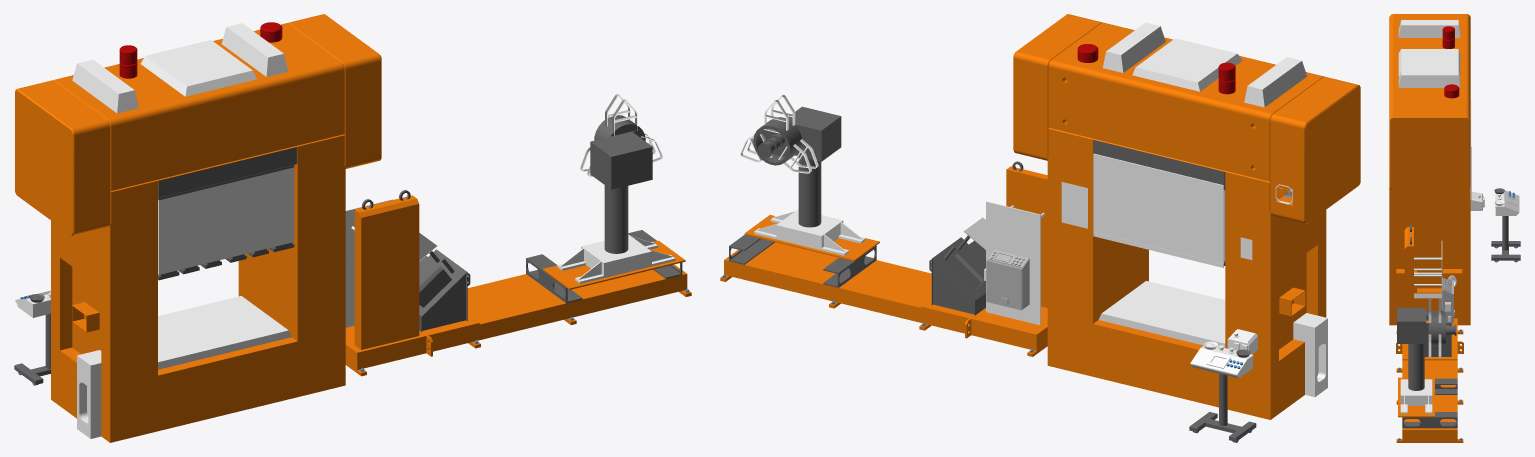
The model's file is jichuang_all.dae.
The picture shows the model from 3 angles, left to right: view 1: azimuth 30°, elevation 25°; view 2: azimuth 150°, elevation 25°; view 3: azimuth 270°, elevation 25°; orthographic projection. The views are drawn at different scales.
Visible parts, largest first — view 1: Obj3d66_447912_3_447, Obj3d66_447912_72_433, Obj3d66_447912_43_788, Obj3d66_447912_17_524, Obj3d66_447912_10_379, Obj3d66_447912_71_568, Obj3d66_447912_53_966, Obj3d66_447912_44_69, Obj3d66_447912_55_737, Obj3d66_447912_5_207, Obj3d66_447912_8_978, Obj3d66_447912_9_440 (+6 smaller); view 2: Obj3d66_447912_3_447, Obj3d66_447912_72_433, Obj3d66_447912_24_21, Obj3d66_447912_17_524, Obj3d66_447912_68_219, Obj3d66_447912_71_568, Obj3d66_447912_10_379, Obj3d66_447912_55_737, Obj3d66_447912_61_484, Obj3d66_447912_5_207, Obj3d66_447912_53_966, Obj3d66_447912_44_69 (+12 smaller); view 3: Obj3d66_447912_3_447, Obj3d66_447912_72_433, Obj3d66_447912_10_379, Obj3d66_447912_53_966, Obj3d66_447912_9_440, Obj3d66_447912_8_978, Obj3d66_447912_55_737, Obj3d66_447912_54_305, Obj3d66_447912_57_925, Obj3d66_447912_83_841, Obj3d66_447912_46_305, Obj3d66_447912_56_21 (+8 smaller).
Part boxes in pixels (box(x1,y1,x2,y2)): Obj3d66_447912_3_447: box(15, 14, 381, 442); Obj3d66_447912_72_433: box(345, 195, 691, 376); Obj3d66_447912_43_788: box(158, 167, 294, 274); Obj3d66_447912_17_524: box(158, 296, 291, 369); Obj3d66_447912_10_379: box(140, 40, 256, 96); Obj3d66_447912_71_568: box(419, 249, 470, 331); Obj3d66_447912_53_966: box(590, 131, 652, 189); Obj3d66_447912_44_69: box(158, 147, 297, 200); Obj3d66_447912_55_737: box(557, 234, 675, 283); Obj3d66_447912_5_207: box(77, 350, 101, 438); Obj3d66_447912_8_978: box(72, 59, 138, 113); Obj3d66_447912_9_440: box(221, 23, 287, 76); Obj3d66_447912_3_447: box(1013, 14, 1360, 419); Obj3d66_447912_72_433: box(720, 166, 1047, 356); Obj3d66_447912_24_21: box(1093, 158, 1223, 263); Obj3d66_447912_17_524: box(1098, 281, 1225, 347); Obj3d66_447912_68_219: box(986, 201, 1040, 325); Obj3d66_447912_71_568: box(929, 235, 985, 315); Obj3d66_447912_10_379: box(1132, 38, 1242, 91); Obj3d66_447912_55_737: box(754, 209, 865, 255); Obj3d66_447912_61_484: box(986, 250, 1029, 310); Obj3d66_447912_5_207: box(1293, 313, 1327, 397); Obj3d66_447912_53_966: box(788, 106, 841, 161); Obj3d66_447912_44_69: box(1093, 140, 1225, 190); Obj3d66_447912_3_447: box(1389, 14, 1470, 325); Obj3d66_447912_72_433: box(1396, 227, 1463, 442); Obj3d66_447912_10_379: box(1398, 49, 1460, 76); Obj3d66_447912_53_966: box(1397, 307, 1425, 343); Obj3d66_447912_9_440: box(1398, 70, 1460, 87); Obj3d66_447912_8_978: box(1398, 20, 1460, 37); Obj3d66_447912_55_737: box(1400, 379, 1432, 413); Obj3d66_447912_54_305: box(1408, 344, 1424, 390); Obj3d66_447912_57_925: box(1402, 412, 1457, 428); Obj3d66_447912_83_841: box(1491, 216, 1520, 260); Obj3d66_447912_46_305: box(1428, 314, 1456, 345); Obj3d66_447912_56_21: box(1398, 377, 1434, 417).
Size of the model in its own units: 273 by 72.53 by 146.
